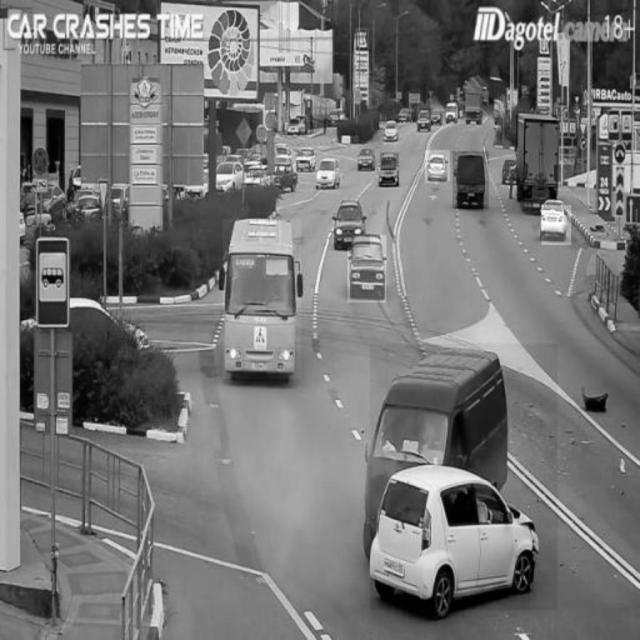accident: (369, 344, 557, 610)
vehicle: (223, 219, 301, 379), (517, 115, 558, 201), (348, 236, 386, 303), (453, 152, 489, 209), (333, 202, 370, 248), (542, 205, 572, 245), (426, 151, 451, 183), (318, 155, 340, 191), (380, 153, 398, 188)
